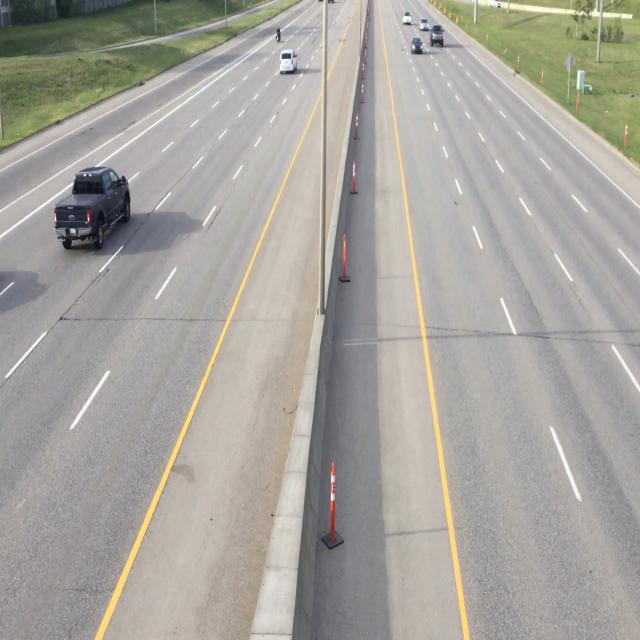Car: (51, 159, 132, 255), (278, 46, 298, 76), (428, 22, 444, 50), (409, 35, 423, 56)
